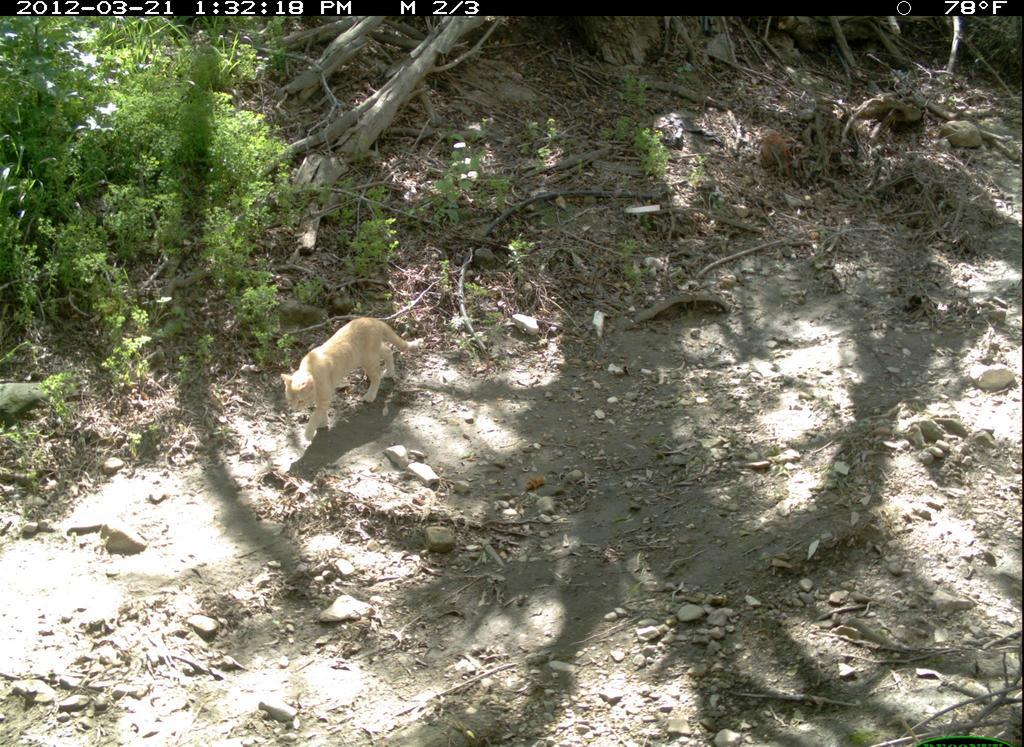cat: (275, 300, 437, 453)
